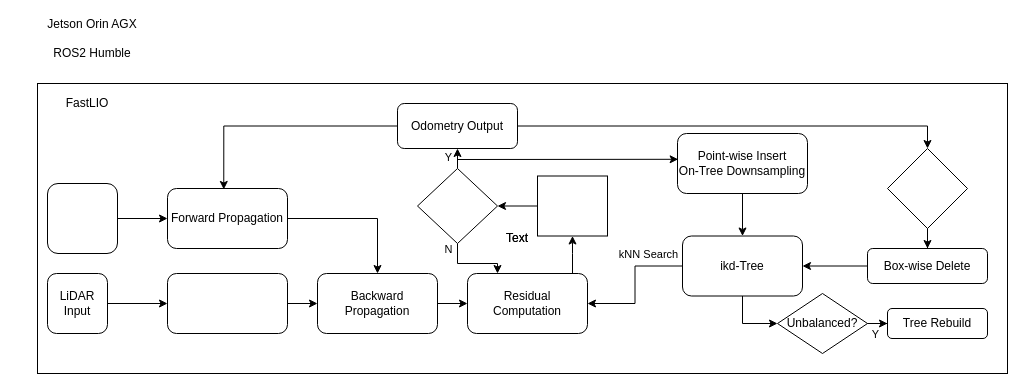
This 1025x391 diagram has some shape labels left out. Here are the shapes that lost their labels. From the top down, the box of each, then its label:
(416, 168, 498, 244): Converged?
(536, 175, 608, 236): State Update
(886, 148, 968, 228): Map Move?
(46, 182, 118, 254): IMU Inputs from Sentry
(166, 272, 288, 334): Points Accumulation
